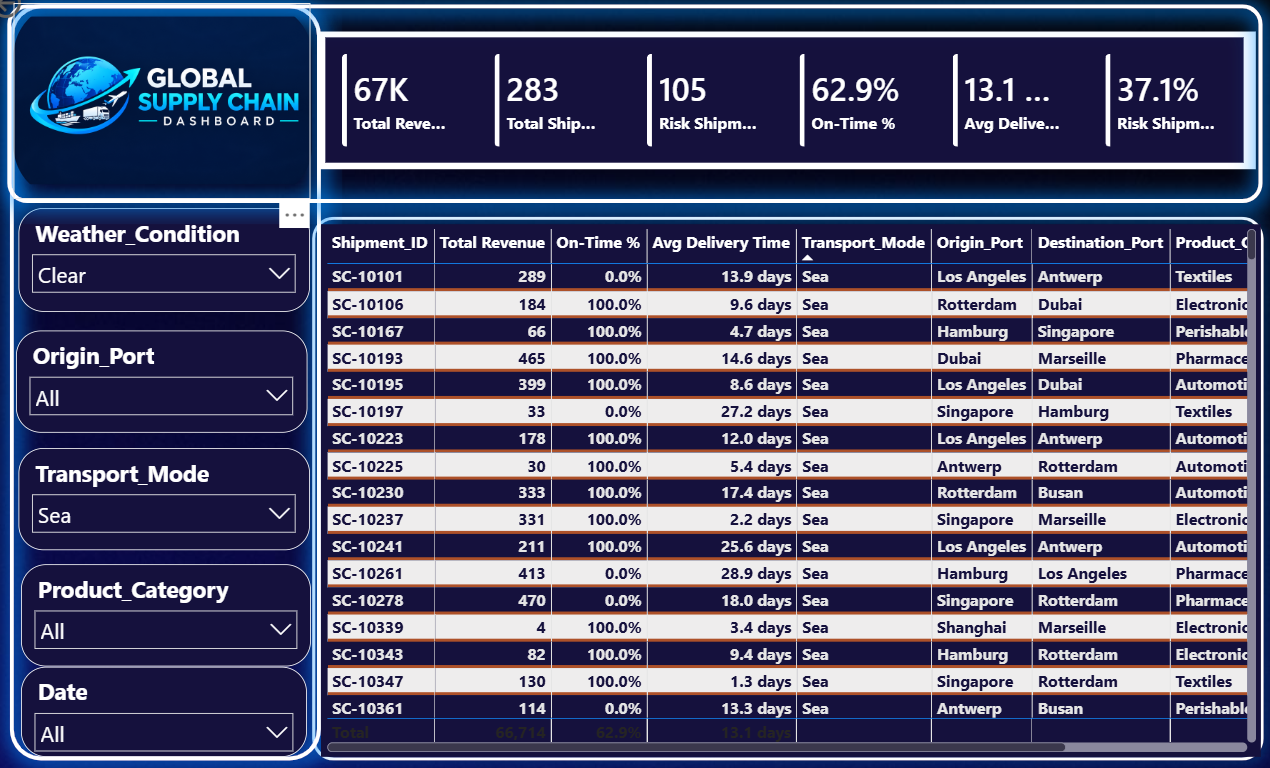

The dashboard page shown, as its layout file describes it:
{"tool":"powerbi","page":{"name":"Duplicate of Page 1","canvas":[1300,800],"ordinal":1},"visuals":[{"type":"shape","box":[306.8,214.2,993.1,584.8],"z":0},{"type":"shape","box":[2.5,0,354.4,800.3],"z":1000},{"type":"cardVisual","fields":{"Data":["global_supply_chain_risk_2026.Total Revenue","global_supply_chain_risk_2026.Total Shipments","global_supply_chain_risk_2026.Risk Shipments","global_supply_chain_risk_2026.On-Time %","global_supply_chain_risk_2026.Avg Delivery Time","global_supply_chain_risk_2026.Risk Shipments %"]},"box":[334.2,48.9,937.5,137.2],"z":2000},{"type":"slicer","fields":{"Values":["global_supply_chain_risk_2026.Weather_Condition"]},"box":[32.6,225.4,291.8,103.9],"z":3000},{"type":"slicer","fields":{"Values":["global_supply_chain_risk_2026.Origin_Port"]},"box":[30.1,348.2,291.8,102.7],"z":4000},{"type":"slicer","fields":{"Values":["global_supply_chain_risk_2026.Transport_Mode"]},"box":[32.6,465.9,291.8,102.7],"z":5000},{"type":"slicer","fields":{"Values":["global_supply_chain_risk_2026.Product_Category"]},"box":[35.1,582.3,290.5,102.7],"z":6000},{"type":"shape","box":[0,0,1300.3,241.8],"z":7000},{"type":"actionButton","box":[0,0,100,40],"z":8000},{"type":"tableEx","fields":{"Values":["global_supply_chain_risk_2026.Shipment_ID","global_supply_chain_risk_2026.Total Revenue","global_supply_chain_risk_2026.On-Time %","global_supply_chain_risk_2026.Avg Delivery Time","global_supply_chain_risk_2026.Transport_Mode","global_supply_chain_risk_2026.Origin_Port","global_supply_chain_risk_2026.Destination_Port","global_supply_chain_risk_2026.Product_Category","global_supply_chain_risk_2026.Weather_Condition"]},"box":[335.6,241.7,941.8,533.5],"z":9000},{"type":"slicer","fields":{"Values":["global_supply_chain_risk_2026.Date"]},"box":[35.1,685,286.8,90.2],"z":10000},{"type":"image","box":[27.2,20.4,298.9,195.7],"z":10001}]}

Visuals, with their boxes in screenshot pixels (x1, y1, x2, y2), scaled from the page's 1300x800 canvas onto the 1270x768 screenshot:
shape: [300,206,1269,767]
shape: [2,0,349,767]
cardVisual - global_supply_chain_risk_2026.Total Revenue x global_supply_chain_risk_2026.Total Shipments: [326,47,1242,179]
slicer - global_supply_chain_risk_2026.Weather_Condition: [32,216,317,316]
slicer - global_supply_chain_risk_2026.Origin_Port: [29,334,314,433]
slicer - global_supply_chain_risk_2026.Transport_Mode: [32,447,317,546]
slicer - global_supply_chain_risk_2026.Product_Category: [34,559,318,658]
shape: [0,0,1269,232]
actionButton: [0,0,98,38]
tableEx - global_supply_chain_risk_2026.Shipment_ID x global_supply_chain_risk_2026.Total Revenue: [328,232,1248,744]
slicer - global_supply_chain_risk_2026.Date: [34,658,314,744]
image: [27,20,319,207]
